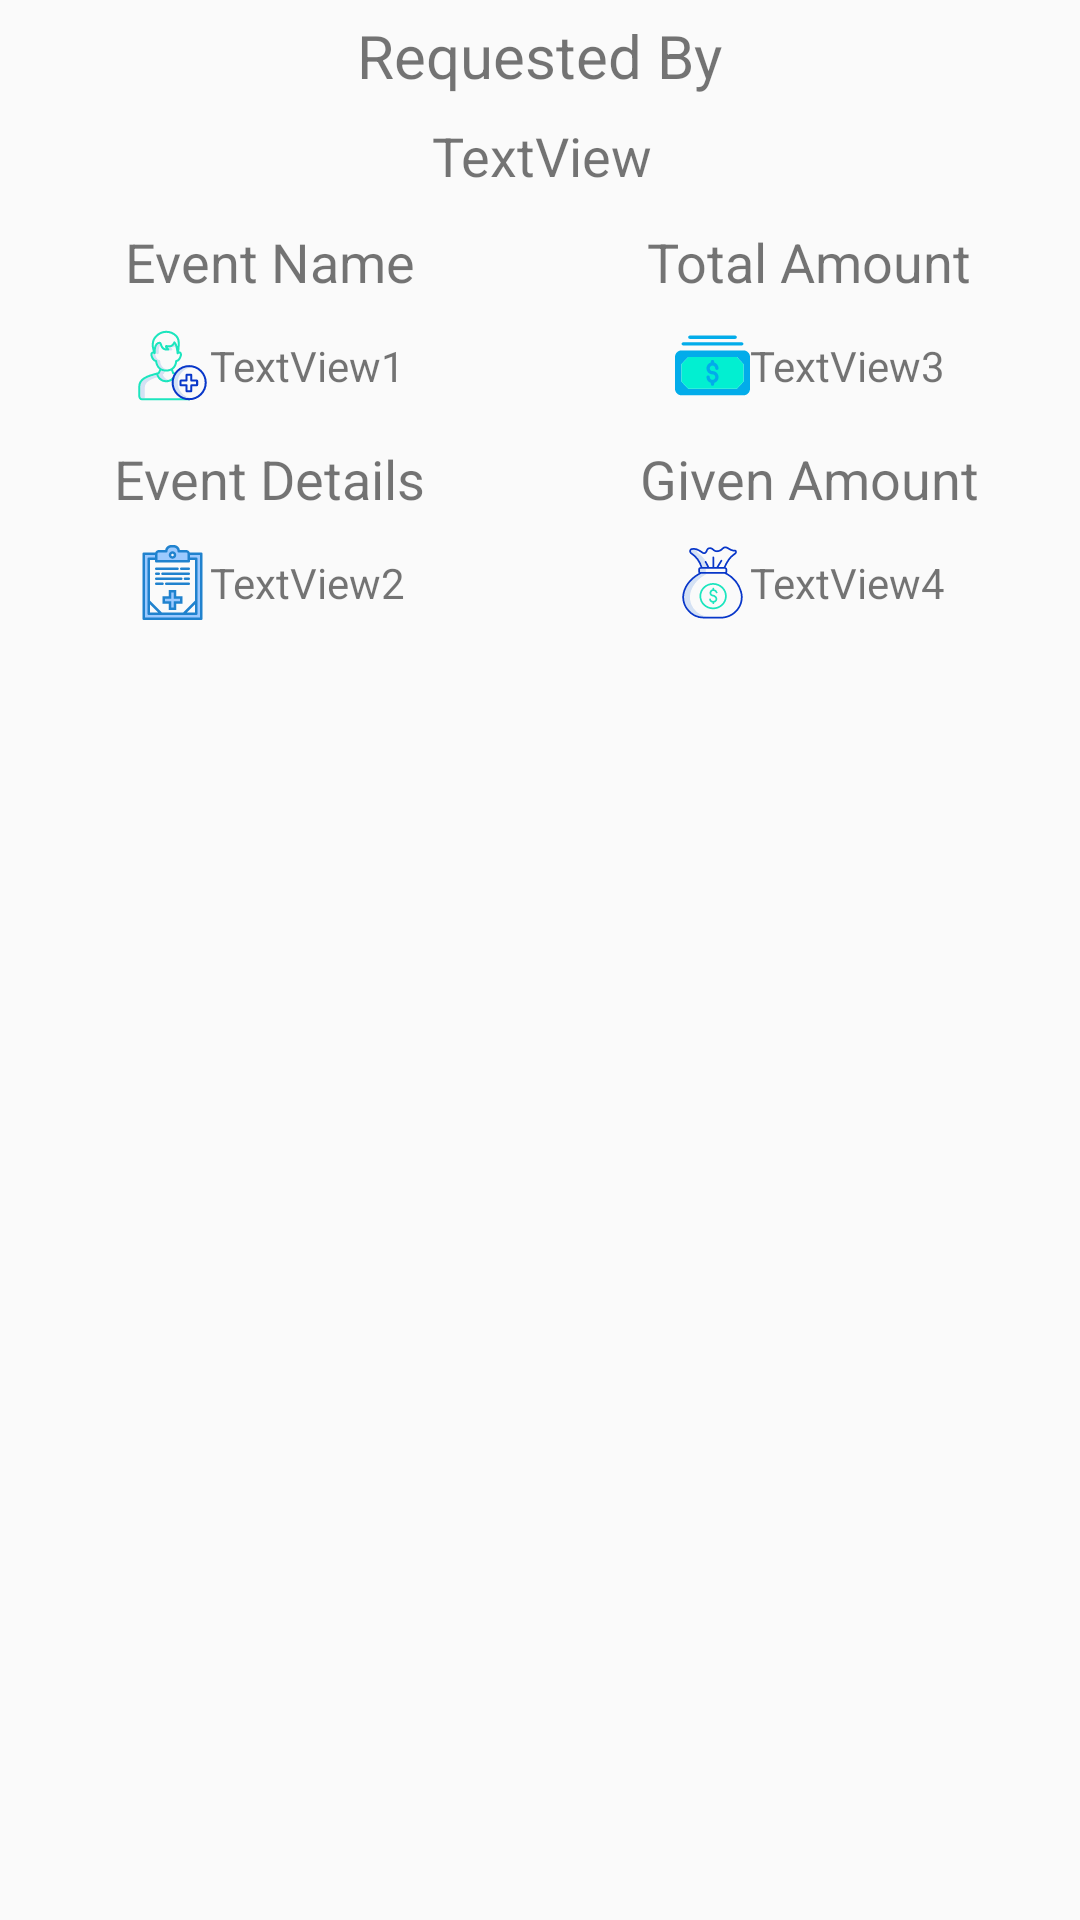

Icons on this 1080*1920 Android screen, each with the point to tap as (x,y):
medical: (172,365)
medical history: (172,582)
money: (712,365)
money bag: (712,582)
